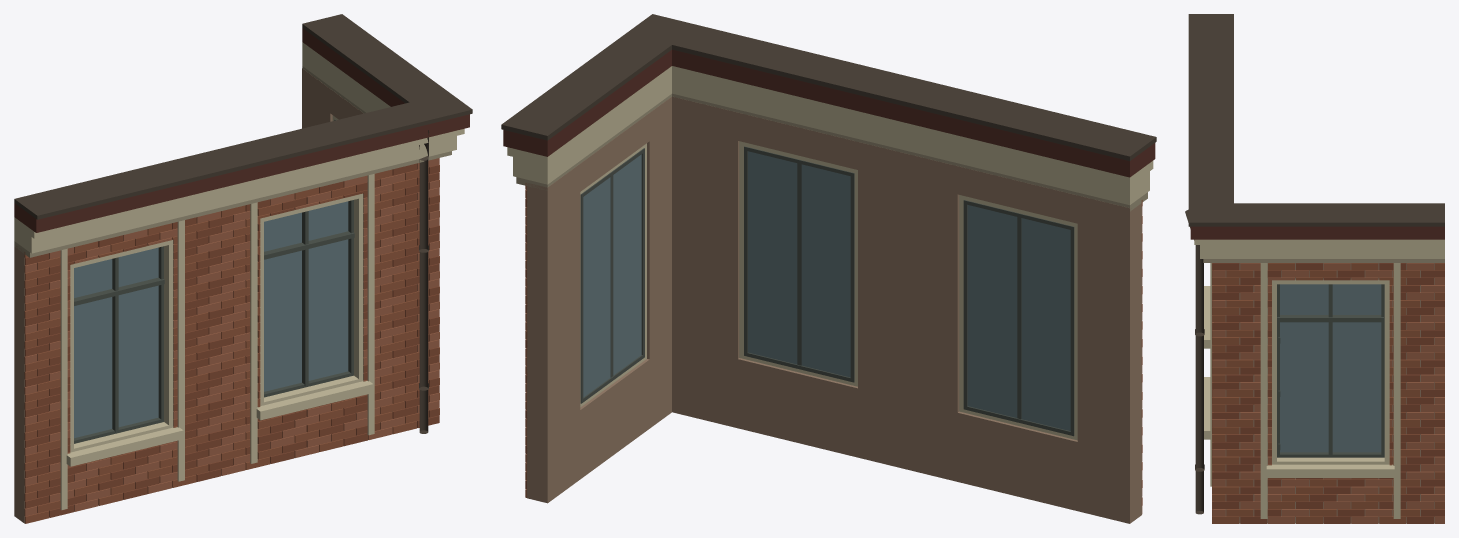
The model's file is changning-yuanpei-building-brick-corner-raw.glb.
The picture shows the model from 3 angles, left to right: view 1: azimuth 30°, elevation 25°; view 2: azimuth 150°, elevation 25°; view 3: azimuth 270°, elevation 25°; orthographic projection. The views are drawn at different scales.
Visible parts, largest first — view 1: 元培楼红砖转角窗与叠檐; view 2: 元培楼红砖转角窗与叠檐; view 3: 元培楼红砖转角窗与叠檐.
Boxes of the visible parts, x1,y1,x2,y2 form: 元培楼红砖转角窗与叠檐: [14, 14, 472, 523]; 元培楼红砖转角窗与叠檐: [501, 14, 1156, 523]; 元培楼红砖转角窗与叠檐: [1185, 14, 1444, 523].
Bounding box in the file's own units: 4.5 × 3.13 × 2.37.
